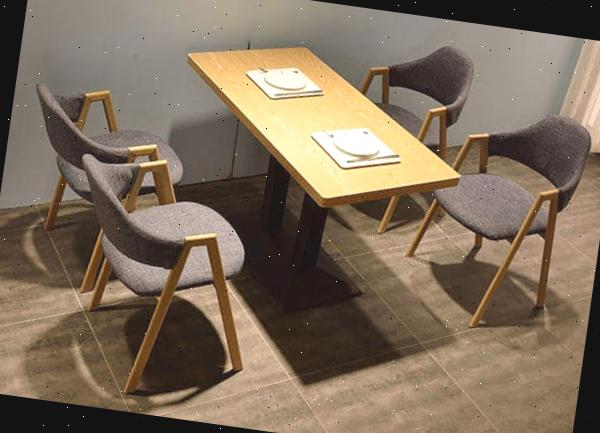Clean Table: (154, 15, 501, 280)
